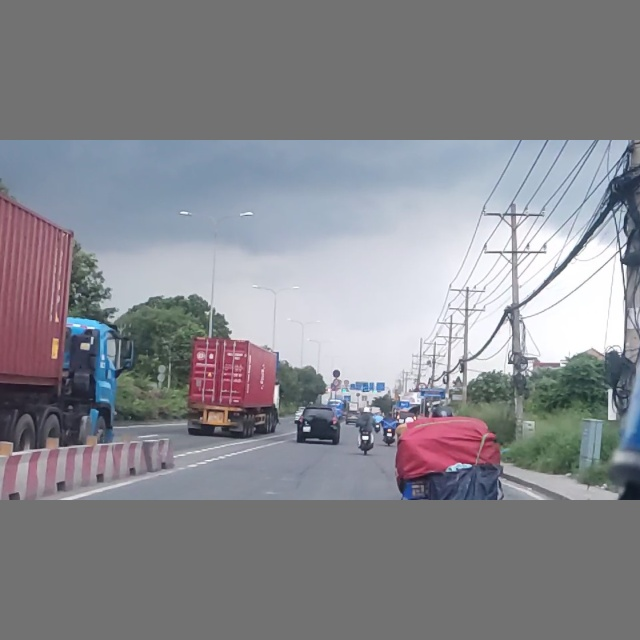P.130: (333, 369, 341, 378)
